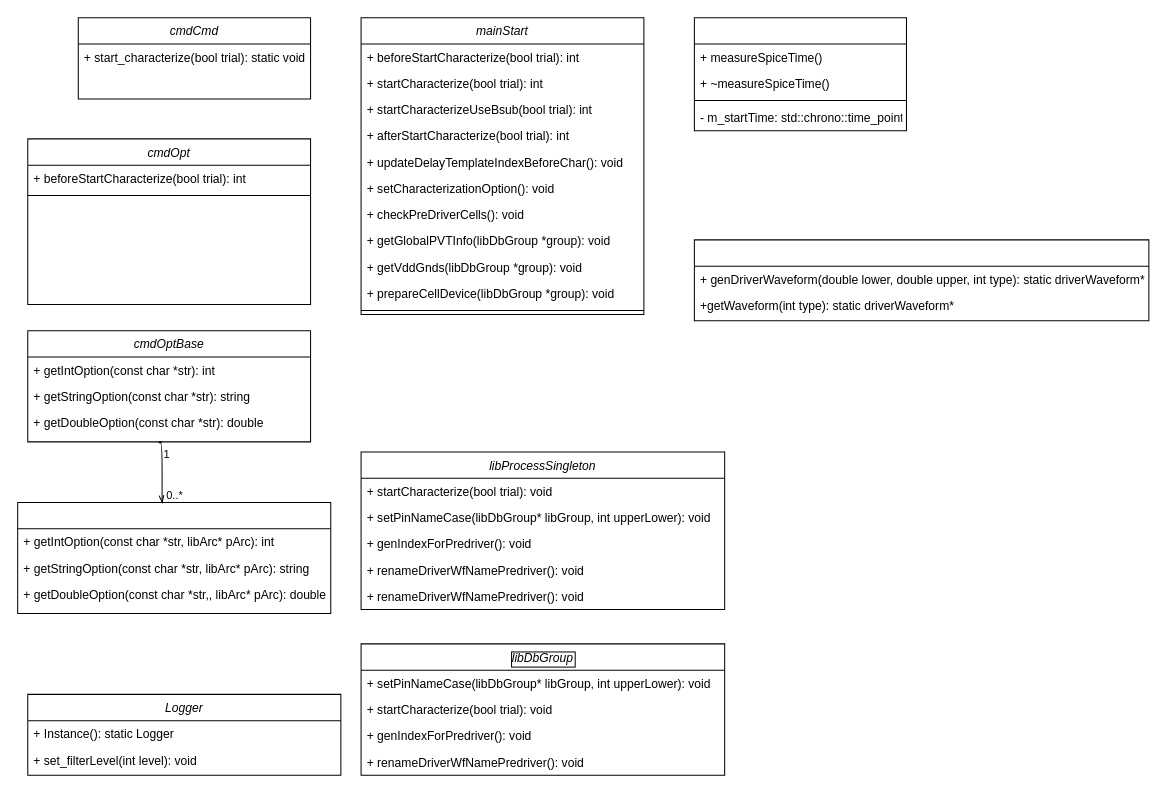
Image size: 1167x796. Some labels were removed from this diagram. Here are the shapes that lost their labels. From the top down, the box of each, then its label:
(693, 17, 906, 131): measurSpiceTime
(693, 239, 1149, 321): driverWaveformTop
(17, 501, 331, 614): cmdOptImpl
